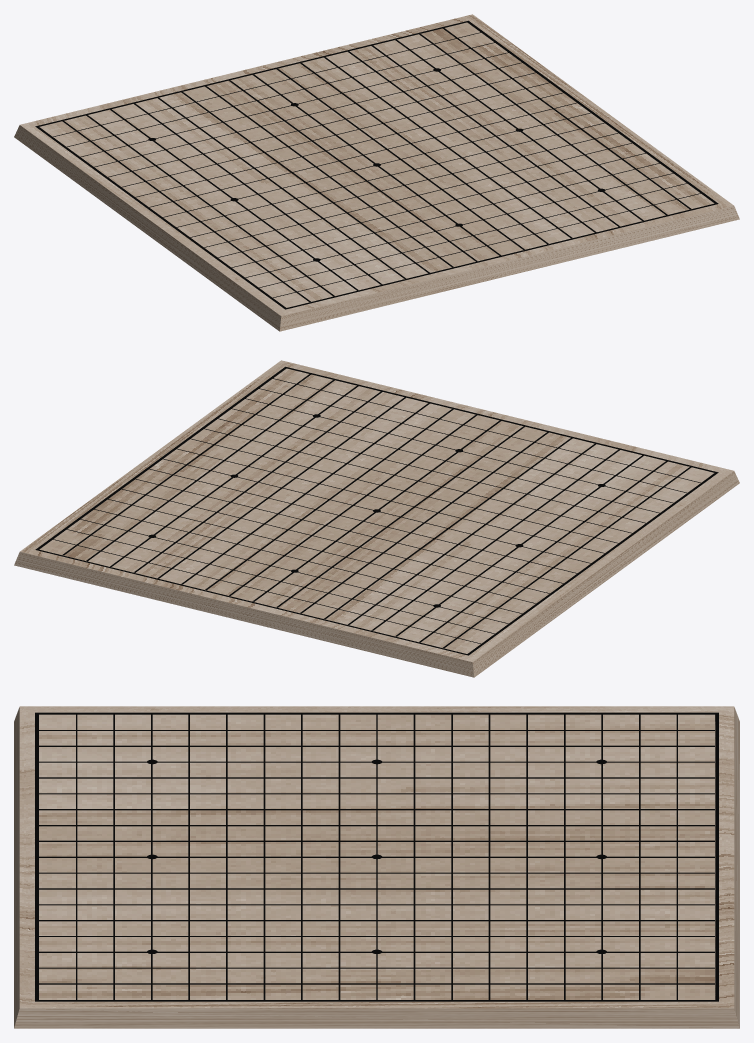
The model's file is go_board.glb.
The picture shows the model from 3 angles, top to bottom: view 1: azimuth 30°, elevation 25°; view 2: azimuth 150°, elevation 25°; view 3: azimuth 270°, elevation 25°; orthographic projection. The views are drawn at different scales.
Parts seen in each view (by area): view 1: grid, edge, lines, outline; view 2: grid, edge, lines, outline; view 3: grid, edge, lines, outline.
Part boxes in pixels (left/top/right/bottom): grid: left=40, top=22, right=714, bottom=307; edge: left=14, top=14, right=739, bottom=331; lines: left=53, top=28, right=700, bottom=302; outline: left=35, top=20, right=718, bottom=309; grid: left=39, top=368, right=713, bottom=653; edge: left=14, top=360, right=739, bottom=677; lines: left=53, top=374, right=700, bottom=648; outline: left=35, top=366, right=718, bottom=655; grid: left=39, top=714, right=714, bottom=999; edge: left=14, top=706, right=739, bottom=1028; lines: left=39, top=714, right=714, bottom=999; outline: left=35, top=712, right=718, bottom=1001.
Bounding box in the file's own units: 2.94 × 0.0815 × 2.94.
2 materials, 1 textured.
